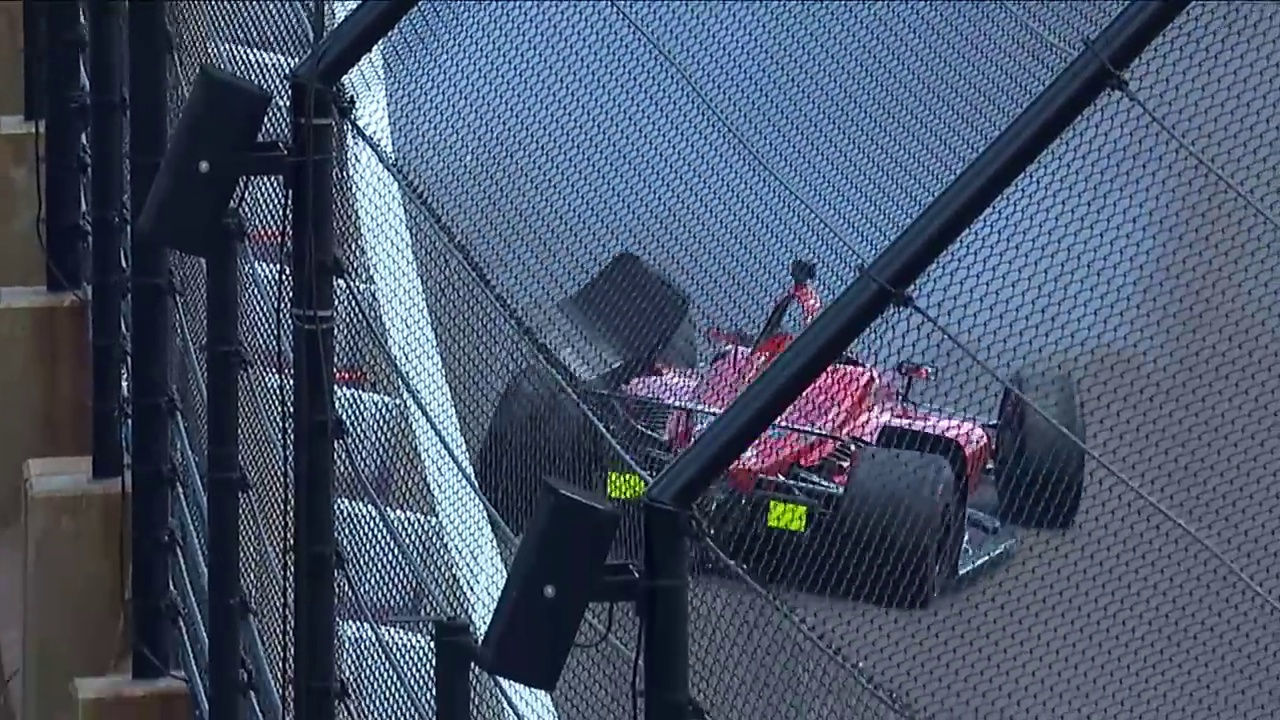car: (478, 189, 1114, 638)
